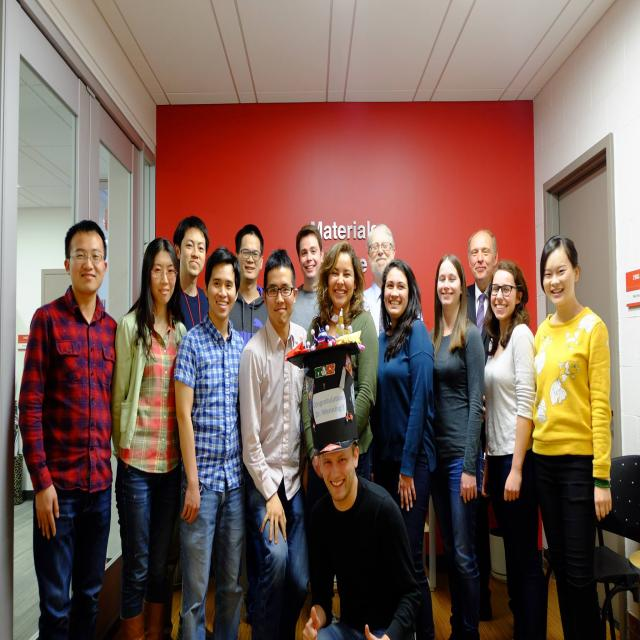body: (281, 323, 422, 640), (17, 216, 122, 640), (532, 233, 614, 640), (112, 234, 194, 639), (237, 246, 314, 640), (173, 249, 246, 639), (477, 258, 542, 640), (371, 258, 436, 639), (426, 252, 486, 640), (458, 228, 514, 622), (300, 238, 382, 503), (360, 222, 425, 338), (223, 222, 274, 346), (171, 214, 210, 334), (289, 222, 325, 331)
